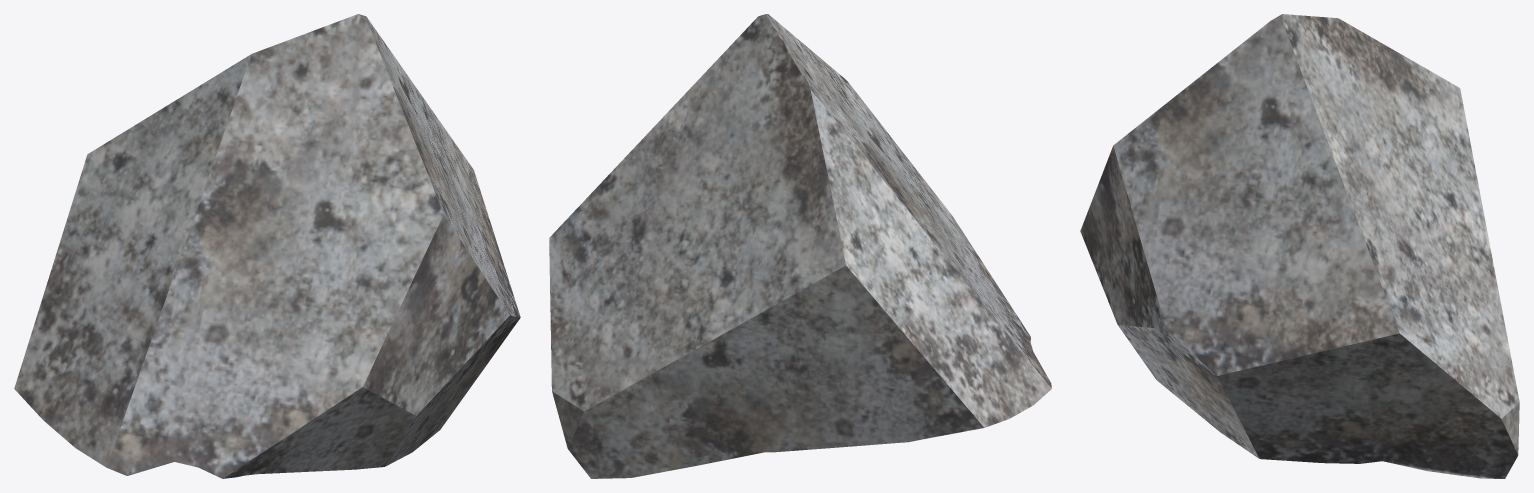
The model's file is Asteroid_Large_001_02_008_03_028.fbx.
3 views of the same model, side by side, from view 1: azimuth 30°, elevation 25°; view 2: azimuth 150°, elevation 25°; view 3: azimuth 270°, elevation 25° (orthographic). The views are drawn at different scales.
Parts seen in each view (by area): view 1: Asteroid_Large_001_02_008_03_028; view 2: Asteroid_Large_001_02_008_03_028; view 3: Asteroid_Large_001_02_008_03_028.
Part boxes in pixels (x1=…): Asteroid_Large_001_02_008_03_028: x1=14, y1=14, x2=520, y2=478; Asteroid_Large_001_02_008_03_028: x1=549, y1=14, x2=1051, y2=478; Asteroid_Large_001_02_008_03_028: x1=1080, y1=14, x2=1519, y2=478.
Bounding box in the file's own units: 10.7 × 9.68 × 8.98.
